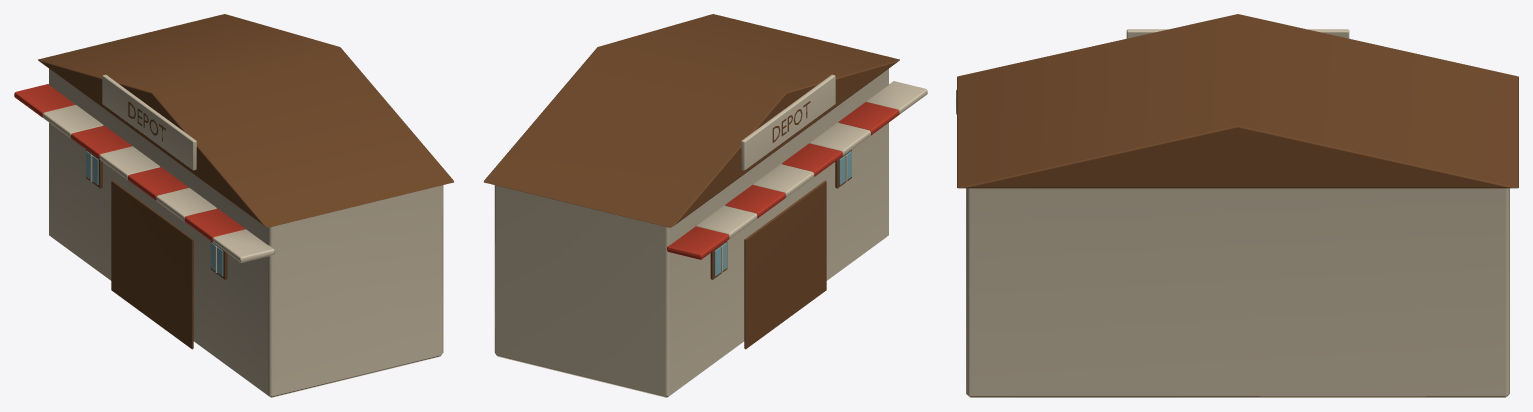
File: depot.glb
The picture shows the model from 3 angles, left to right: view 1: azimuth 30°, elevation 25°; view 2: azimuth 150°, elevation 25°; view 3: azimuth 270°, elevation 25°; orthographic projection. The views are drawn at different scales.
Visible parts, largest first — view 1: depot; view 2: depot; view 3: depot.
Boxes of the visible parts, x1,y1,x2,y2 form: depot: [14, 14, 453, 397]; depot: [484, 14, 927, 397]; depot: [956, 14, 1518, 397].
Size of the model in its own units: 6.15 by 6.2 by 11.38.
